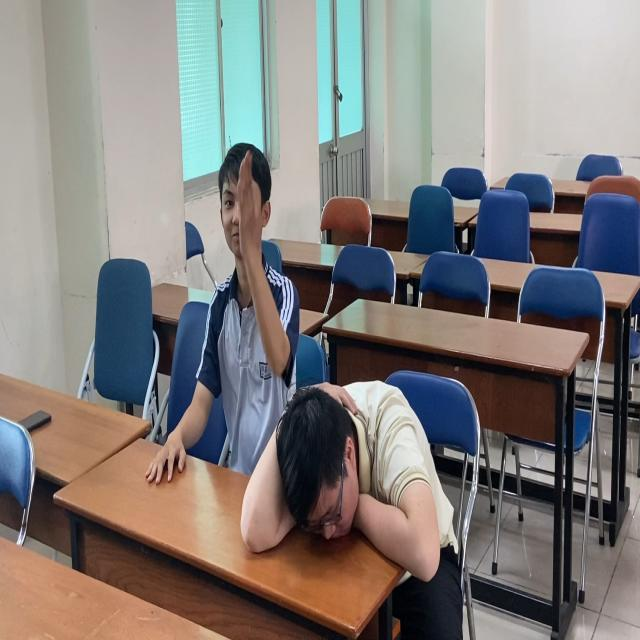sleep: (242, 376, 448, 590)
